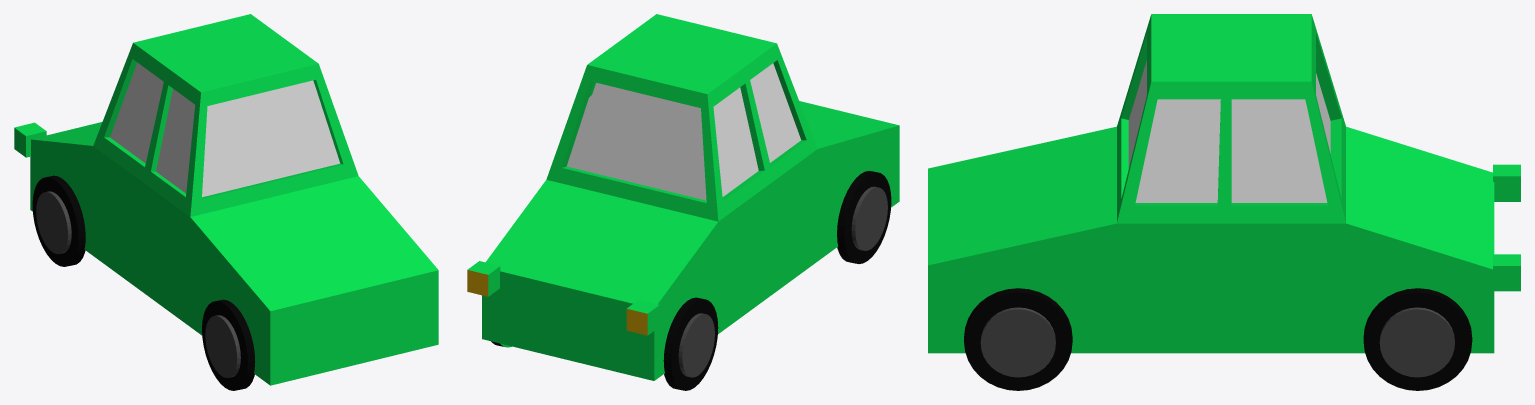
Rendered from car2.fbx.
3 renders of one model, left to right at view 1: azimuth 30°, elevation 25°; view 2: azimuth 150°, elevation 25°; view 3: azimuth 270°, elevation 25°, orthographic. The views are drawn at different scales.
Parts seen in each view (by area): view 1: Cube.131; view 2: Cube.131; view 3: Cube.131.
Part boxes in pixels (left/top/right/bottom): Cube.131: left=14, top=14, right=438, bottom=390; Cube.131: left=467, top=14, right=899, bottom=390; Cube.131: left=928, top=14, right=1520, bottom=390.
Size of the model in its own units: 73.24 by 91.24 by 169.
